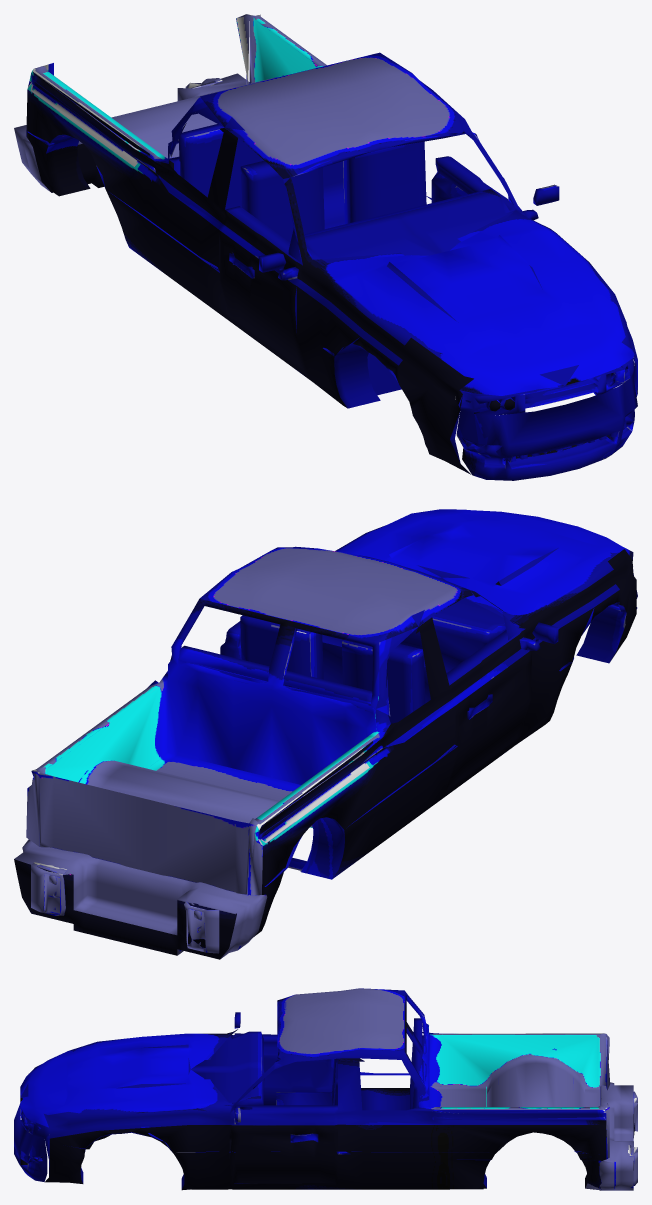
The model's file is car245.gltf.
The picture shows the model from 3 angles, top to bottom: view 1: azimuth 30°, elevation 25°; view 2: azimuth 150°, elevation 25°; view 3: azimuth 270°, elevation 25°; orthographic projection. The views are drawn at different scales.
Visible parts, largest first — view 1: misc.001; view 2: misc.001; view 3: misc.001.
Part boxes in pixels (x1=…): misc.001: x1=14, y1=14, x2=637, y2=480; misc.001: x1=14, y1=509, x2=637, y2=959; misc.001: x1=14, y1=988, x2=637, y2=1190.
Size of the model in its own units: 1.54 by 1.04 by 4.01.
Materials: 1 (1 with a texture image).
